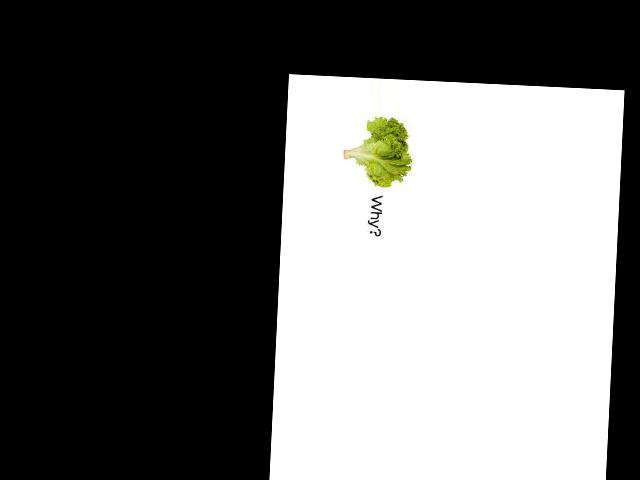lettuce: (334, 112, 420, 229)
